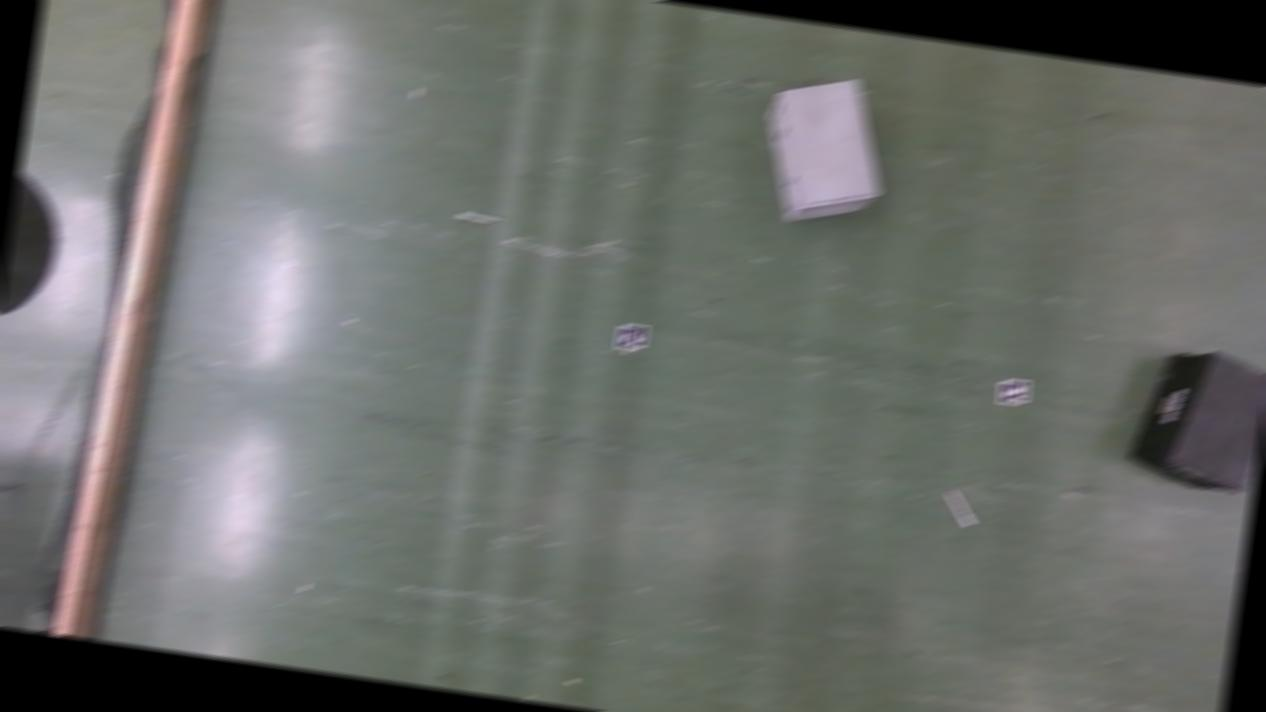probes: (942, 491, 976, 526), (452, 212, 496, 224)
rako: (753, 71, 896, 234), (1125, 342, 1266, 495)
